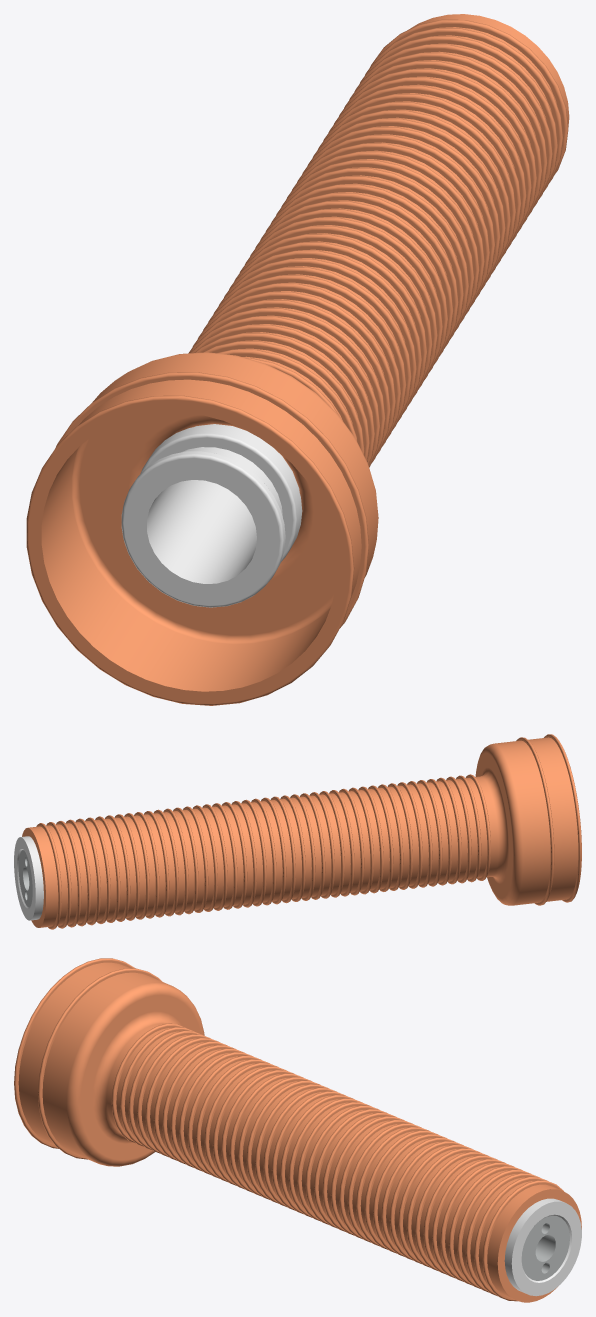
Rendered from 10.8_truba-kontakta-tk-1250-1.glb.
The picture shows the model from 3 angles, top to bottom: view 1: azimuth 30°, elevation 25°; view 2: azimuth 150°, elevation 25°; view 3: azimuth 270°, elevation 25°; orthographic projection. The views are drawn at different scales.
Visible parts, largest first — view 1: 10.8_truba-kontakta-tk-1250-1; view 2: 10.8_truba-kontakta-tk-1250-1; view 3: 10.8_truba-kontakta-tk-1250-1.
Part boxes in pixels (x1,y1,x2,y2): 10.8_truba-kontakta-tk-1250-1: [26, 14, 569, 705]; 10.8_truba-kontakta-tk-1250-1: [14, 734, 581, 929]; 10.8_truba-kontakta-tk-1250-1: [14, 958, 581, 1302].
Size of the model in its own units: 0.2858 by 0.1006 by 0.2859.
